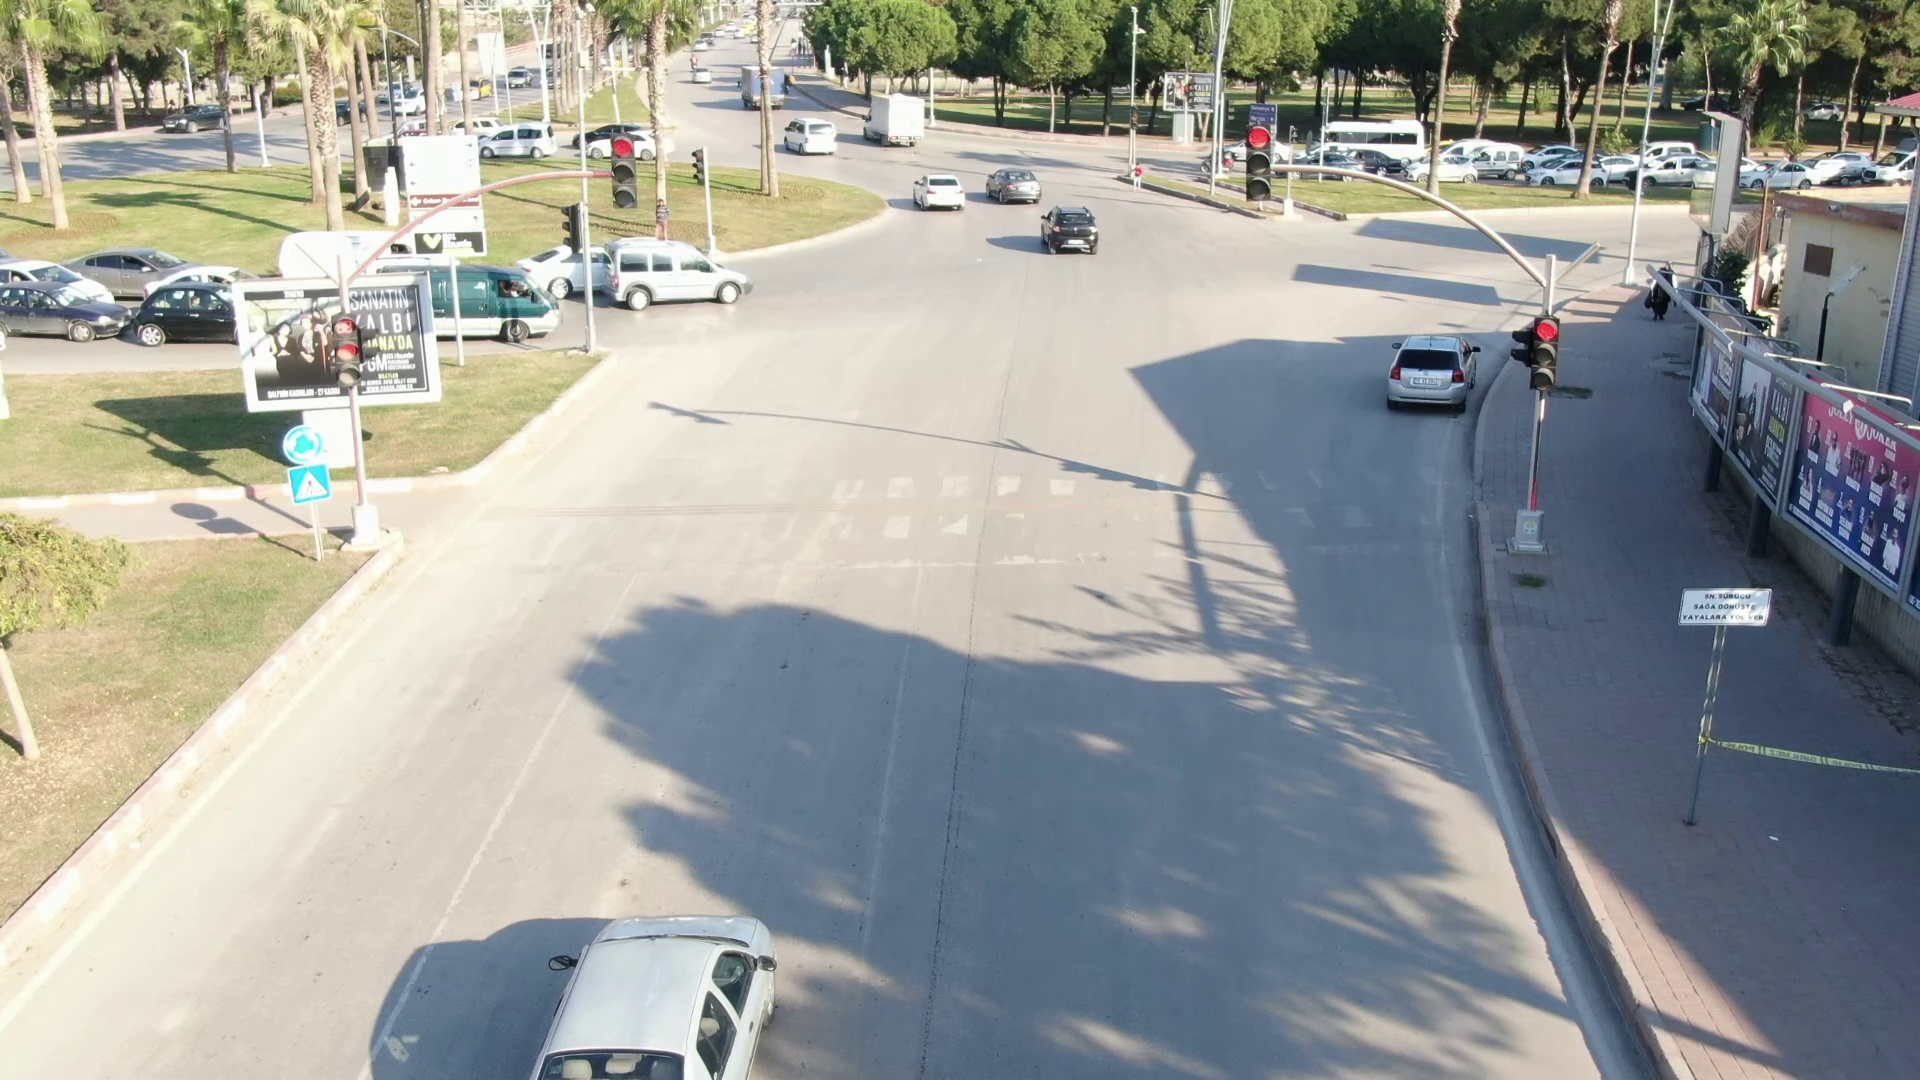car: (477, 849, 818, 1080), (593, 222, 771, 324), (1362, 313, 1487, 418), (973, 156, 1065, 228), (851, 87, 942, 154), (894, 162, 982, 228), (1036, 204, 1106, 272), (771, 104, 851, 164)
